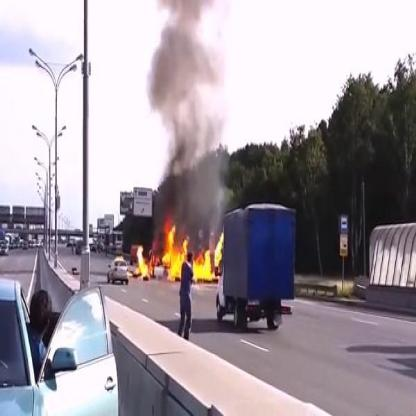fire: (135, 225, 214, 285)
